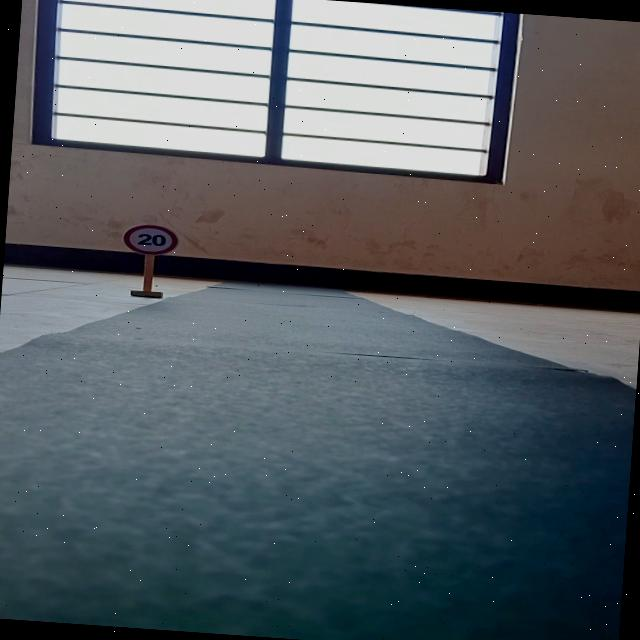Speed20: (119, 220, 181, 258)
